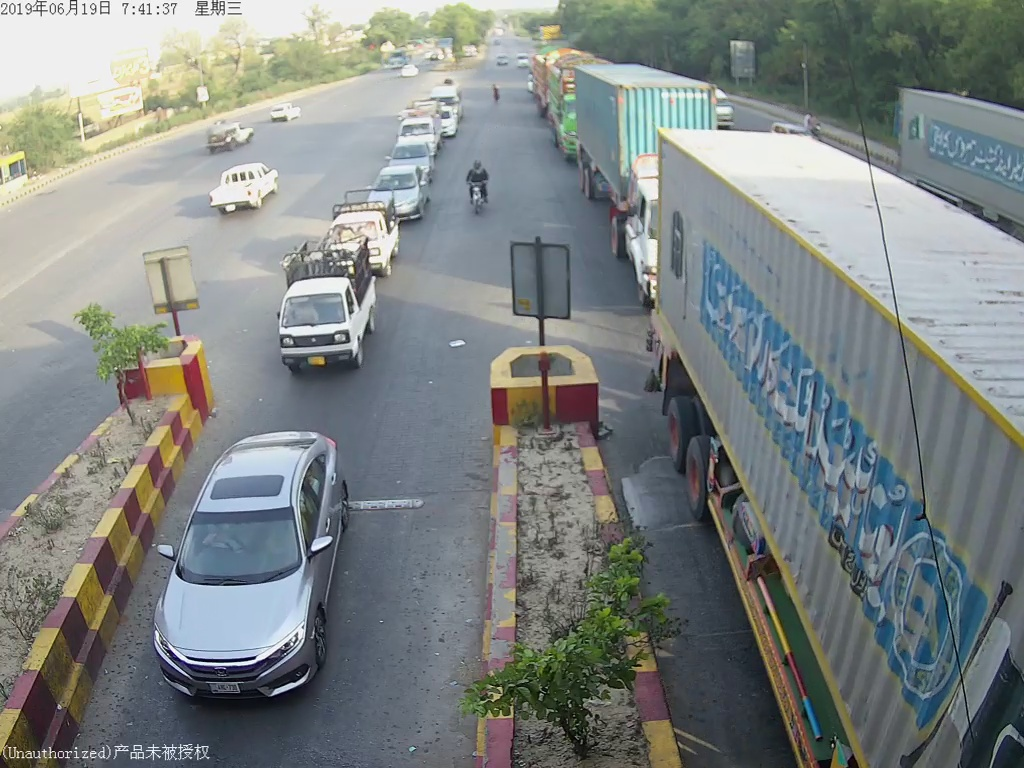Cat-1: (156, 424, 356, 712), (280, 249, 380, 375)
